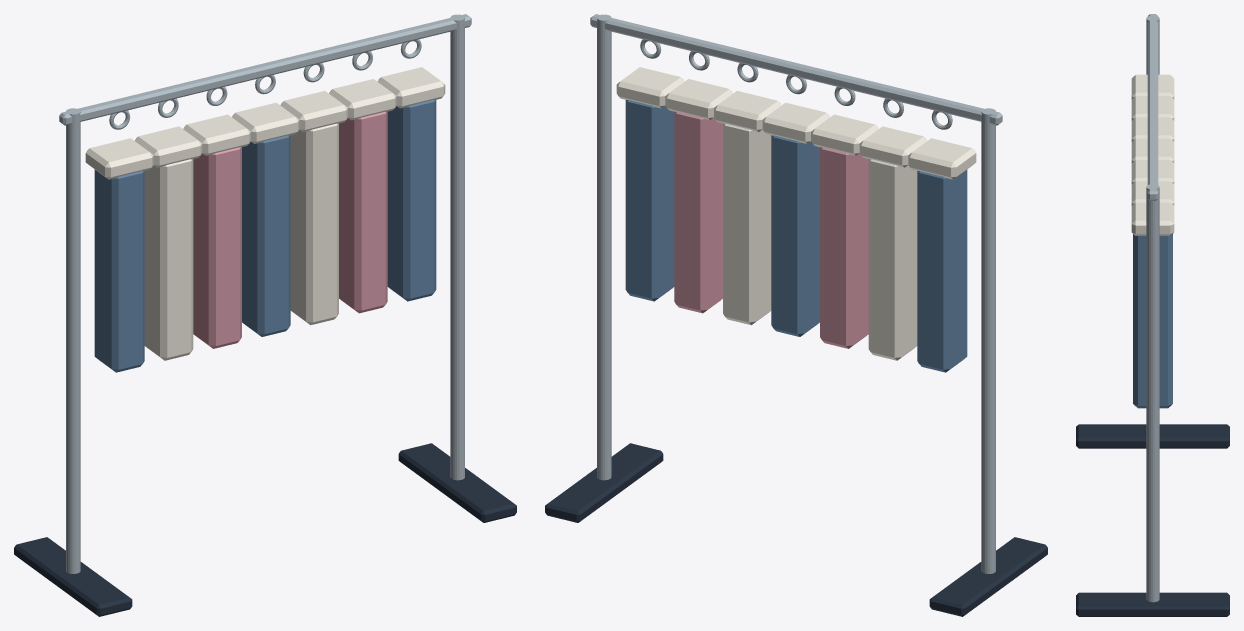
Rendered from retail_05.glb.
3 views of the same model, side by side, from view 1: azimuth 30°, elevation 25°; view 2: azimuth 150°, elevation 25°; view 3: azimuth 270°, elevation 25° (orthographic). The views are drawn at different scales.
Visible parts, largest first — view 1: Garment (×7), RackUpright (×2), Shoulder (×7), RackFoot (×2), ClothesRail; view 2: Garment (×7), RackUpright (×2), Shoulder (×7), RackFoot (×2), ClothesRail; view 3: RackFoot (×2), RackUpright (×2), Shoulder (×7), Garment, ClothesRail.
Part boxes in pixels (x1,y1,x2,y2): Garment (×7): (94, 100, 436, 372); RackUpright (×2): (66, 14, 464, 573); Shoulder (×7): (85, 67, 445, 179); RackFoot (×2): (14, 443, 516, 616); ClothesRail: (59, 14, 471, 125); Garment (×7): (625, 100, 967, 372); RackUpright (×2): (597, 14, 995, 573); Shoulder (×7): (616, 67, 976, 179); RackFoot (×2): (545, 443, 1047, 616); ClothesRail: (590, 14, 1002, 125); RackFoot (×2): (1076, 424, 1229, 616); RackUpright (×2): (1146, 15, 1159, 602); Shoulder (×7): (1131, 74, 1174, 235); Garment: (1133, 234, 1172, 408); ClothesRail: (1147, 14, 1158, 200).
Size of the model in its own units: 1.64 by 1.76 by 0.58.
